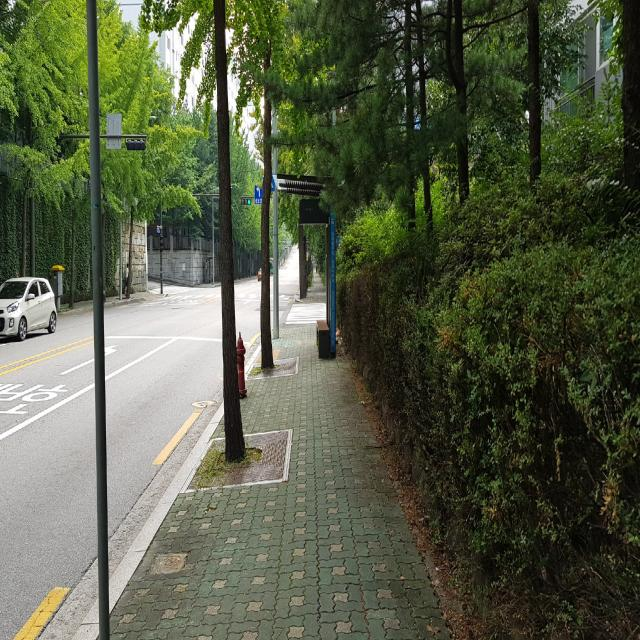횡단보도: (286, 303, 326, 324)
